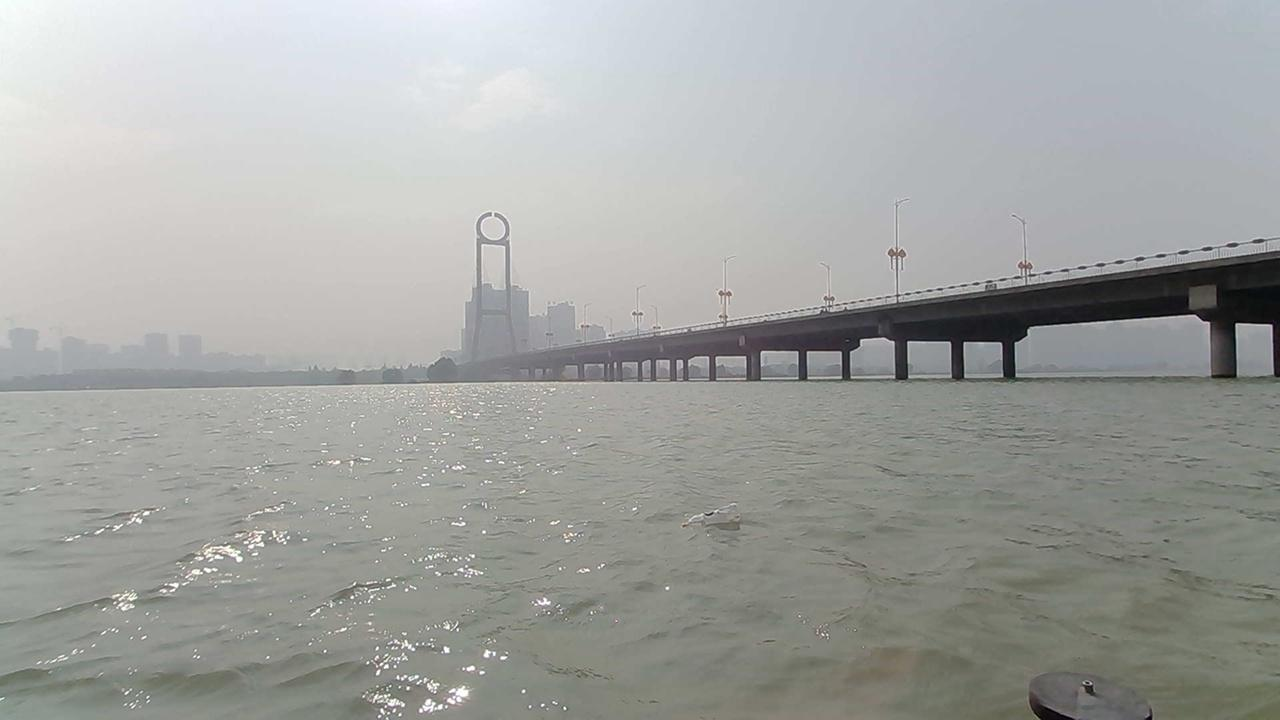bottle: (679, 502, 742, 527)
